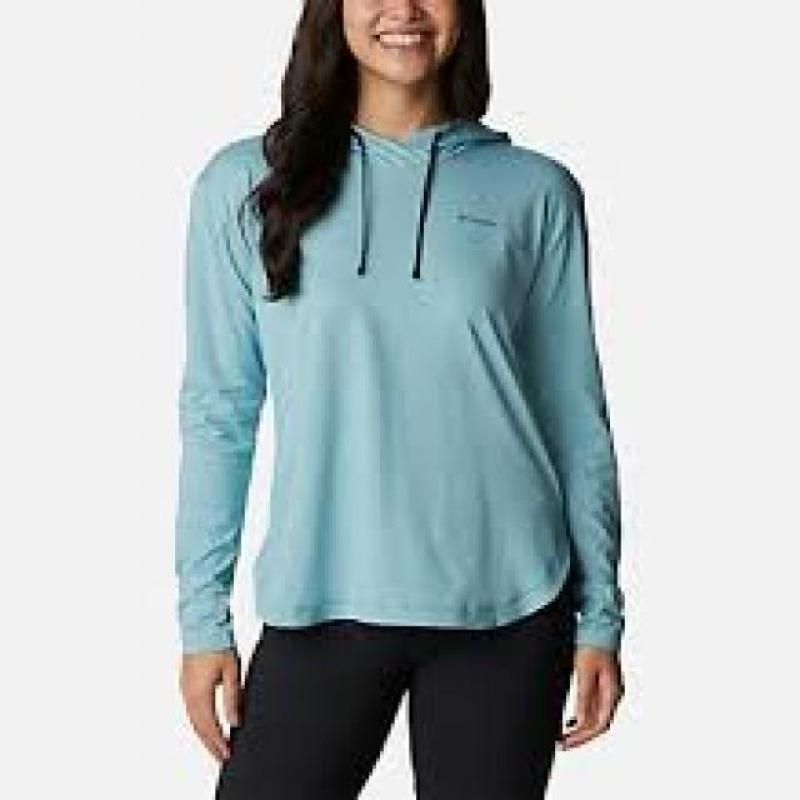sweater: (178, 118, 626, 657)
trousers: (213, 571, 582, 800)
